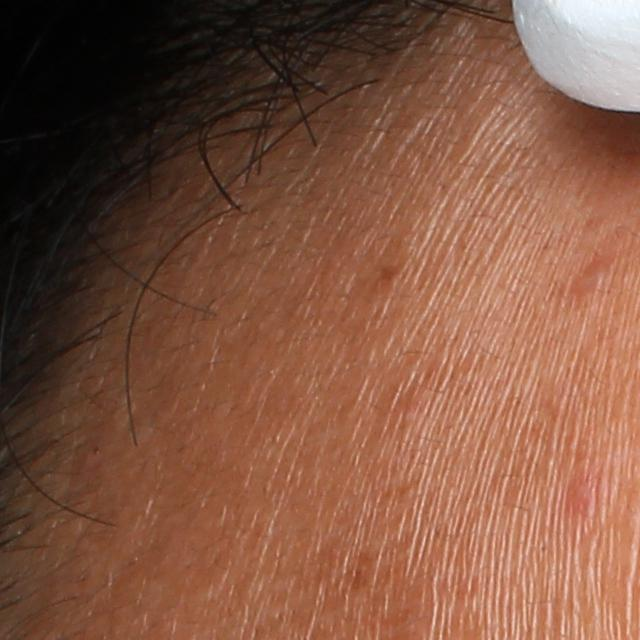papule: (574, 257, 619, 297), (565, 478, 608, 518)
